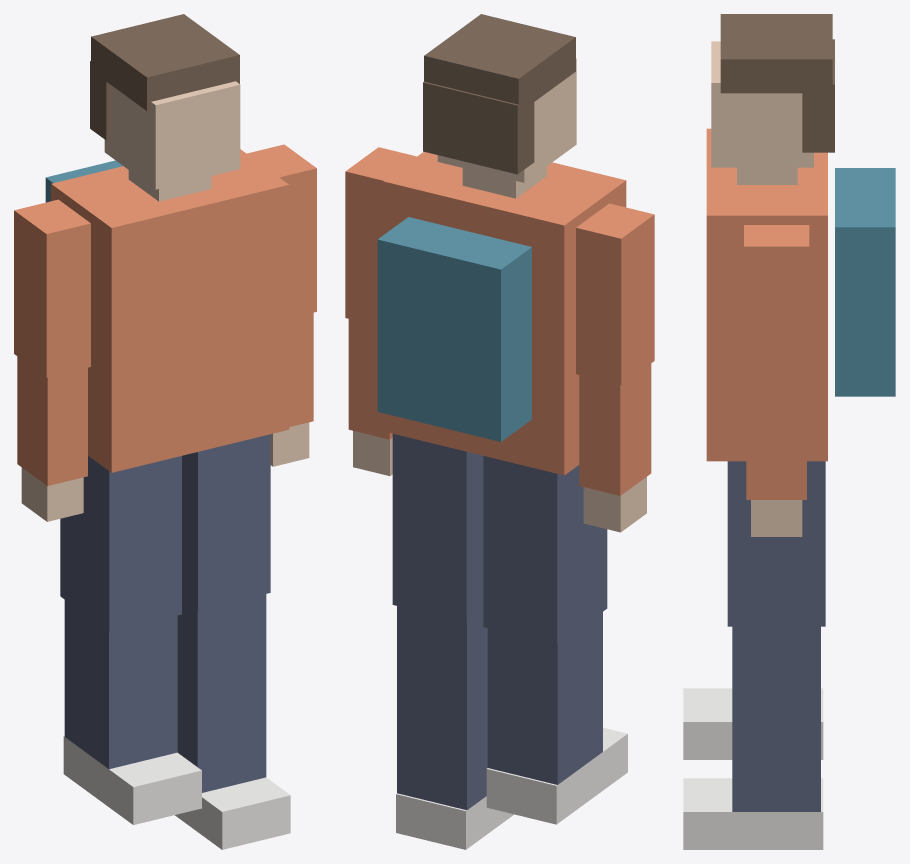
Rendered from walker-2.glb.
3 views of the same model, side by side, from view 1: azimuth 30°, elevation 25°; view 2: azimuth 150°, elevation 25°; view 3: azimuth 270°, elevation 25° (orthographic). The views are drawn at different scales.
Size of the model in its own units: 0.67 by 1.83 by 0.455.
